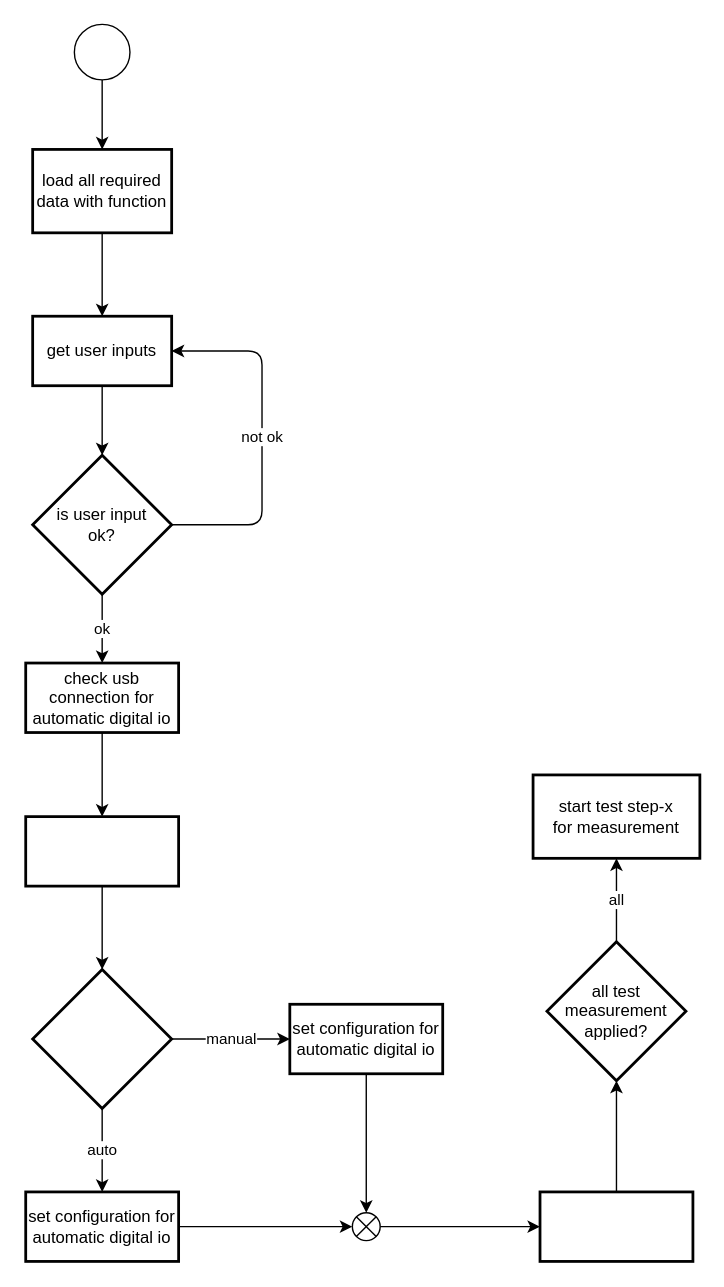
Some shapes in this 724 by 1287 pixel diagram are drawn without their labels. The centre of each missing label's shape, as x and y in pixels:
auto/manual digital io?: the point at 101,1038
pop up warning to verified digital io auto or manual: the point at 101,851
start: the point at 101,51
test step selection for all or some: the point at 616,1226
